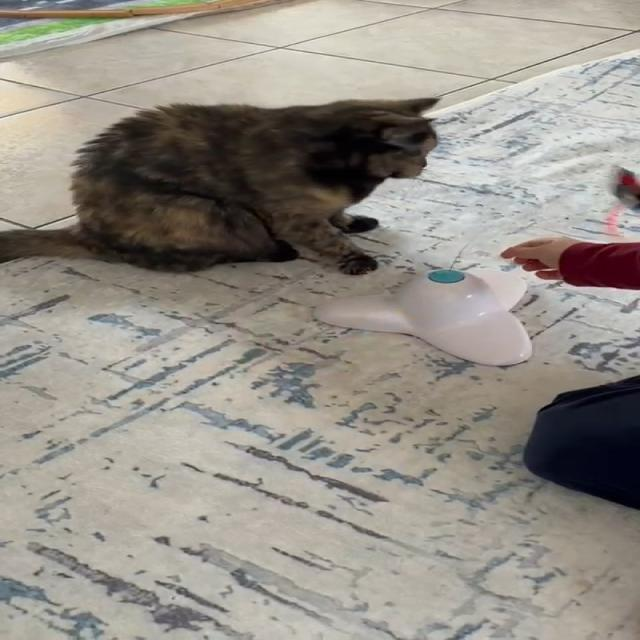authorized: (0, 95, 441, 275)
